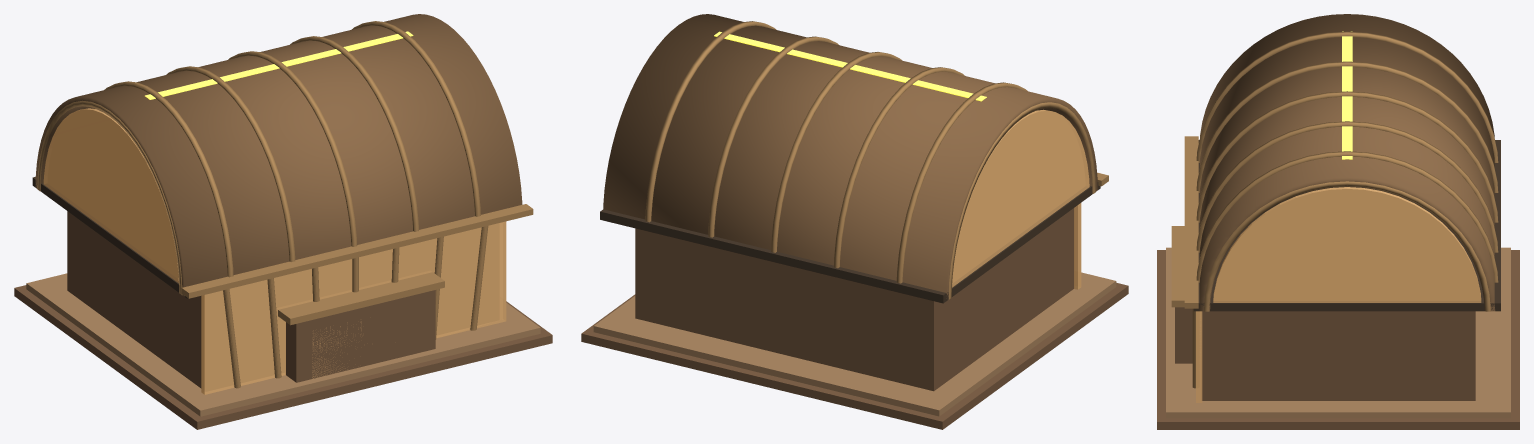
Rendered from ccc.glb.
The picture shows the model from 3 angles, left to right: view 1: azimuth 30°, elevation 25°; view 2: azimuth 150°, elevation 25°; view 3: azimuth 270°, elevation 25°; orthographic projection. The views are drawn at different scales.
Parts seen in each view (by area): view 1: CCC_BarrelVault_Shell, CCC_CurvedFacadeGlass, CCC_GlazedEndGable_0, CCC_AssemblyHall_Walls, CCC_SteppedPlinth_L2, CCC_MainEntrancePortal, CCC_SteppedPlinth_L1, CCC_CanopyVisor, CCC_EntranceCornice, CCC_RoofRib_0, CCC_RoofRib_3, CCC_RoofRib_2 (+8 smaller); view 2: CCC_BarrelVault_Shell, CCC_AssemblyHall_Walls, CCC_SteppedPlinth_L2, CCC_GlazedEndGable_0, CCC_SteppedPlinth_L1, CCC_CeilingSoffitSlab, CCC_RoofRib_0, CCC_RoofRib_4, CCC_RoofRib_3, CCC_RoofRib_2, CCC_RoofRib_1, CCC_SkylightSpine (+2 smaller); view 3: CCC_BarrelVault_Shell, CCC_AssemblyHall_Walls, CCC_GlazedEndGable_1, CCC_SteppedPlinth_L2, CCC_SteppedPlinth_L1, CCC_CeilingSoffitSlab, CCC_CanopyVisor, CCC_EndGableFrame_1, CCC_RoofRib_2, CCC_RoofRib_1, CCC_RoofRib_0, CCC_RoofRib_3 (+5 smaller).
Part boxes in pixels (box(x1,y1,x2,y2)): CCC_BarrelVault_Shell: box(35, 14, 522, 296); CCC_CurvedFacadeGlass: box(201, 221, 506, 394); CCC_GlazedEndGable_0: box(43, 108, 178, 282); CCC_AssemblyHall_Walls: box(67, 211, 201, 388); CCC_SteppedPlinth_L2: box(26, 273, 540, 416); CCC_MainEntrancePortal: box(286, 290, 435, 382); CCC_SteppedPlinth_L1: box(14, 285, 552, 429); CCC_CanopyVisor: box(181, 204, 533, 298); CCC_EntranceCornice: box(278, 272, 444, 325); CCC_RoofRib_0: box(104, 81, 233, 277); CCC_RoofRib_3: box(290, 36, 418, 231); CCC_RoofRib_2: box(228, 51, 357, 246); CCC_BarrelVault_Shell: box(603, 14, 1097, 298); CCC_AssemblyHall_Walls: box(635, 208, 1073, 391); CCC_SteppedPlinth_L2: box(593, 272, 1116, 416); CCC_GlazedEndGable_0: box(952, 109, 1089, 287); CCC_SteppedPlinth_L1: box(581, 282, 1128, 429); CCC_CeilingSoffitSlab: box(600, 182, 1100, 303); CCC_RoofRib_0: box(896, 82, 1027, 283); CCC_RoofRib_4: box(645, 21, 776, 222); CCC_RoofRib_3: box(708, 36, 839, 237); CCC_RoofRib_2: box(771, 52, 901, 252); CCC_RoofRib_1: box(833, 67, 964, 268); CCC_SkylightSpine: box(714, 31, 986, 101); CCC_BarrelVault_Shell: box(1199, 14, 1495, 311); CCC_AssemblyHall_Walls: box(1202, 311, 1475, 400); CCC_GlazedEndGable_1: box(1213, 187, 1481, 302); CCC_SteppedPlinth_L2: box(1166, 247, 1510, 418); CCC_SteppedPlinth_L1: box(1157, 250, 1519, 429); CCC_CeilingSoffitSlab: box(1193, 140, 1500, 311); CCC_CanopyVisor: box(1184, 136, 1198, 308); CCC_EndGableFrame_1: box(1204, 181, 1490, 311); CCC_RoofRib_2: box(1196, 91, 1498, 222); CCC_RoofRib_1: box(1196, 61, 1498, 192); CCC_RoofRib_0: box(1196, 31, 1498, 162); CCC_RoofRib_3: box(1196, 121, 1498, 252).
Bounding box in the file's own units: 9.2 × 6.27 × 8.2.
